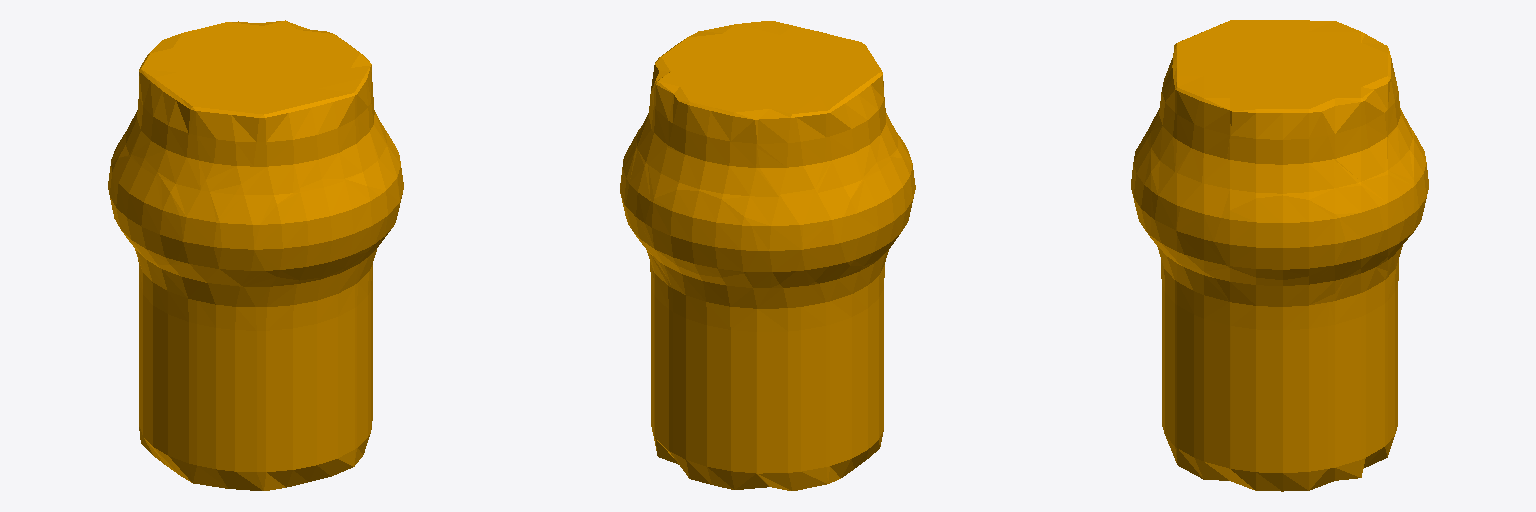
robot.urdf — cylinder_../../meshes/cylinders/cylinder_63.stl:
<?xml version="1.0" encoding="utf-8"?>  <robot name="cylinder_../../meshes/cylinders/cylinder_63.stl">   <link name="cylinder_../../meshes/cylinders/cylinder_63.stl">     <visual>       <geometry>         <mesh filename="../meshes/cylinders/cylinder_63.stl" scale="1 1 1"/>       </geometry>     </visual>     <collision>       <geometry>         <mesh filename="../meshes/cylinders/cylinder_63.stl" scale="1 1 1"/>       </geometry>     </collision>     <inertial>        <origin         xyz="0 0 0"         rpy="0 0 0" />       <mass value="0.14216610916303493"/>       <origin rpy="0 0 0" xyz="0 0 0"/>       <inertia ixx="9.147424247542102e-05" ixy="6.111844552745532e-09" ixz="-4.67718699742214e-08" iyy="9.147286058555958e-05" iyz="-3.2590178066841064e-08" izz="4.1450267764882984e-05"/>     </inertial>   </link>  </robot>

--- Render facts (derived) ---
Views: 3 orthographic renders of the robot side by side, from view 1: azimuth 30°, elevation 25°; view 2: azimuth 150°, elevation 25°; view 3: azimuth 270°, elevation 25°.
Robot: cylinder_../../meshes/cylinders/cylinder_63.stl — 1 links, 0 joints (none); root link cylinder_../../meshes/cylinders/cylinder_63.stl; default pose: every joint at zero.
Visible links, largest first — view 1: cylinder_../../meshes/cylinders/cylinder_63.stl; view 2: cylinder_../../meshes/cylinders/cylinder_63.stl; view 3: cylinder_../../meshes/cylinders/cylinder_63.stl.
Boxes of the visible links, <box> form: cylinder_../../meshes/cylinders/cylinder_63.stl: <box>108,20,403,490</box>; cylinder_../../meshes/cylinders/cylinder_63.stl: <box>620,21,915,490</box>; cylinder_../../meshes/cylinders/cylinder_63.stl: <box>1131,20,1428,491</box>.
Bounding box of the posed robot: 0.0568 × 0.0568 × 0.0804 m (x, y, z).
1 mesh visuals loaded from 1 distinct referenced files (1 binary STL).